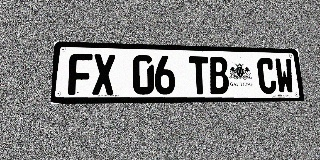0: (133, 55, 154, 95)
6: (154, 55, 175, 94)
B: (208, 57, 229, 94)
C: (256, 58, 277, 94)
F: (68, 53, 92, 95)
T: (189, 56, 210, 94)
W: (274, 58, 295, 94)
X: (92, 54, 115, 95)
